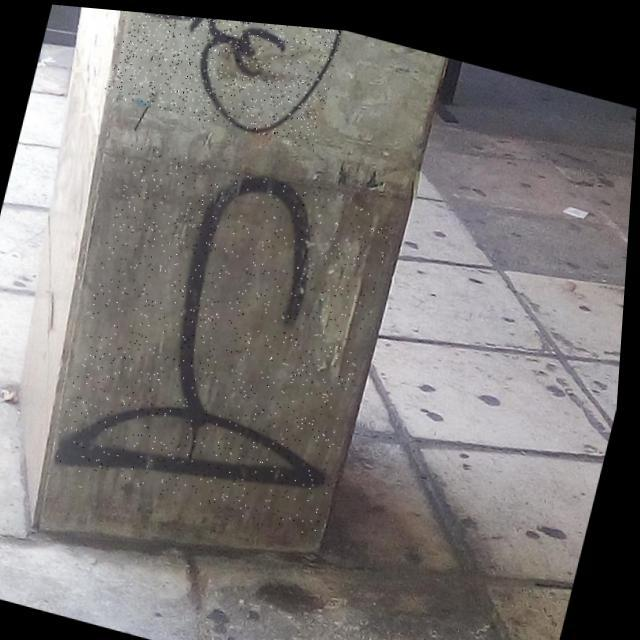-: (55, 136, 401, 534), (103, 8, 343, 146)
